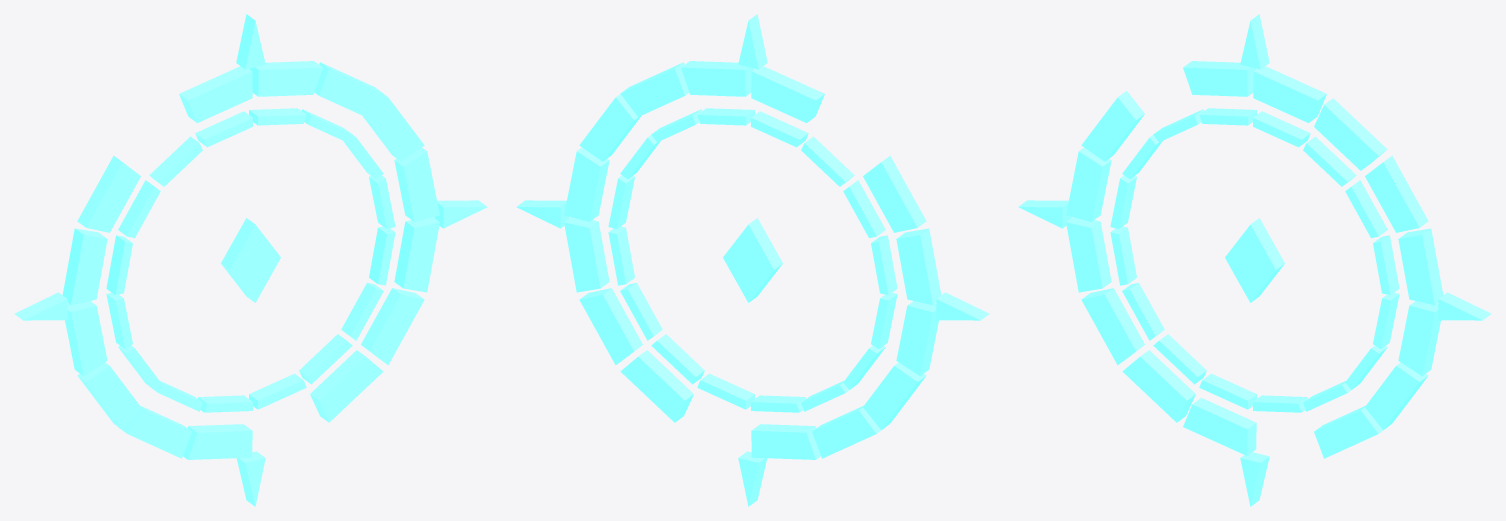
File: Seal_Cyan.fbx
3 views of the same model, side by side, from view 1: azimuth 30°, elevation 25°; view 2: azimuth 150°, elevation 25°; view 3: azimuth 330°, elevation 25° (orthographic).
Visible parts, largest first — view 1: Seal_Cyan; view 2: Seal_Cyan; view 3: Seal_Cyan.
Part boxes in pixels (x1=…): Seal_Cyan: x1=14, y1=14, x2=487, y2=506; Seal_Cyan: x1=516, y1=14, x2=989, y2=506; Seal_Cyan: x1=1018, y1=14, x2=1491, y2=506.
Bounding box in the file's own units: 1.36 × 1.36 × 0.046.
